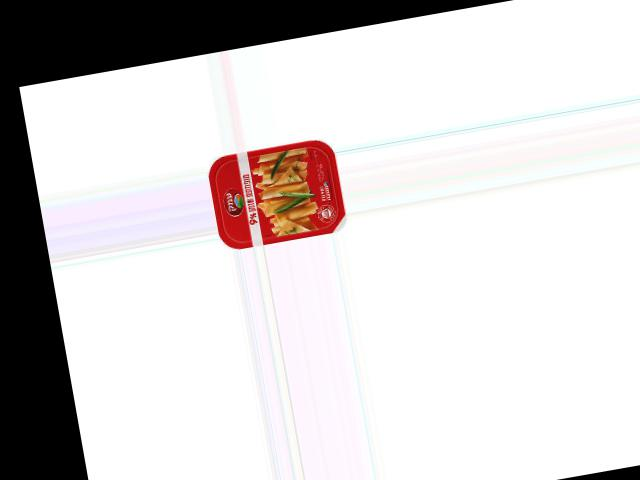cheese: (204, 135, 348, 252)
